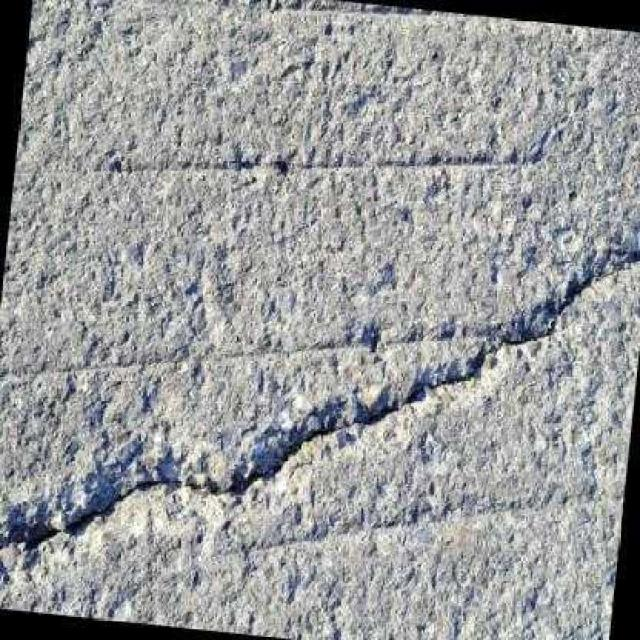D00: (0, 250, 640, 551)
